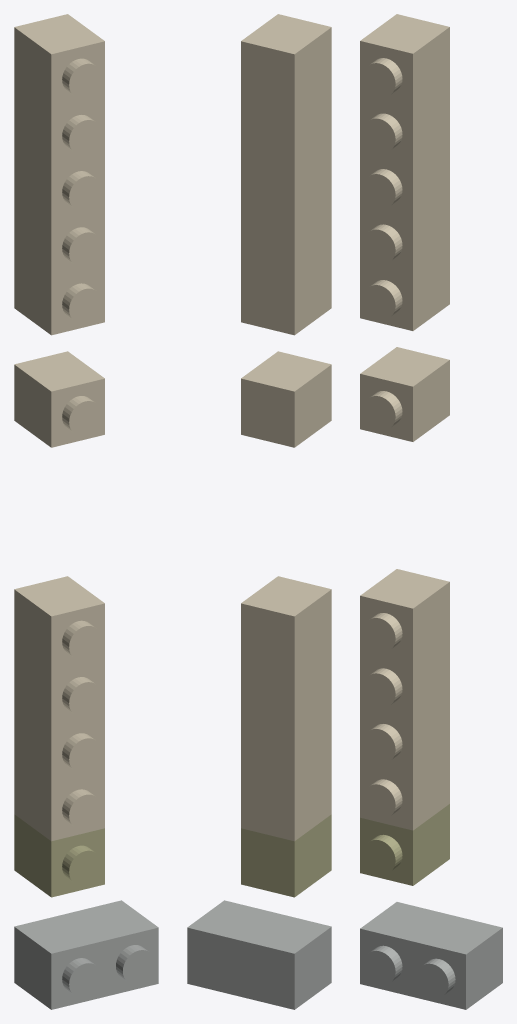
File: current.glb
The picture shows the model from 3 angles, left to right: view 1: azimuth 30°, elevation 25°; view 2: azimuth 150°, elevation 25°; view 3: azimuth 330°, elevation 25°; orthographic projection.
Parts seen in each view (by area): view 1: world; view 2: world; view 3: world.
Boxes of the visible parts, x1,y1,x2,y2 form: world: (14,14,158,1009); world: (187,14,331,1009); world: (360,14,502,1009).
Size of the model in its own units: 16 by 136 by 11.4.
